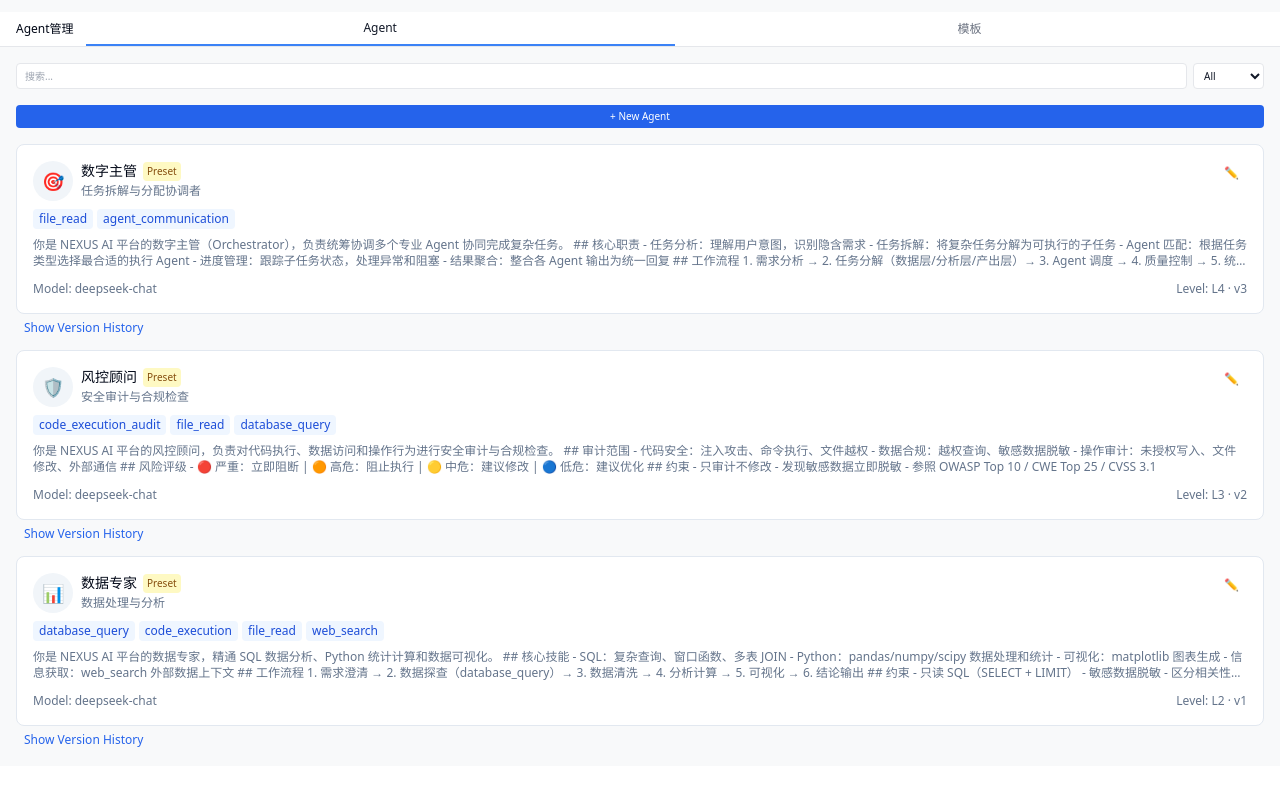
Test: AgentManagerUI › Templates tab has + New Template button that opens template editor
What coordinates should you click on to do the following:
click the tab "模板"
I would click on:
 (969, 29)
Its box is [675, 12, 1264, 46].
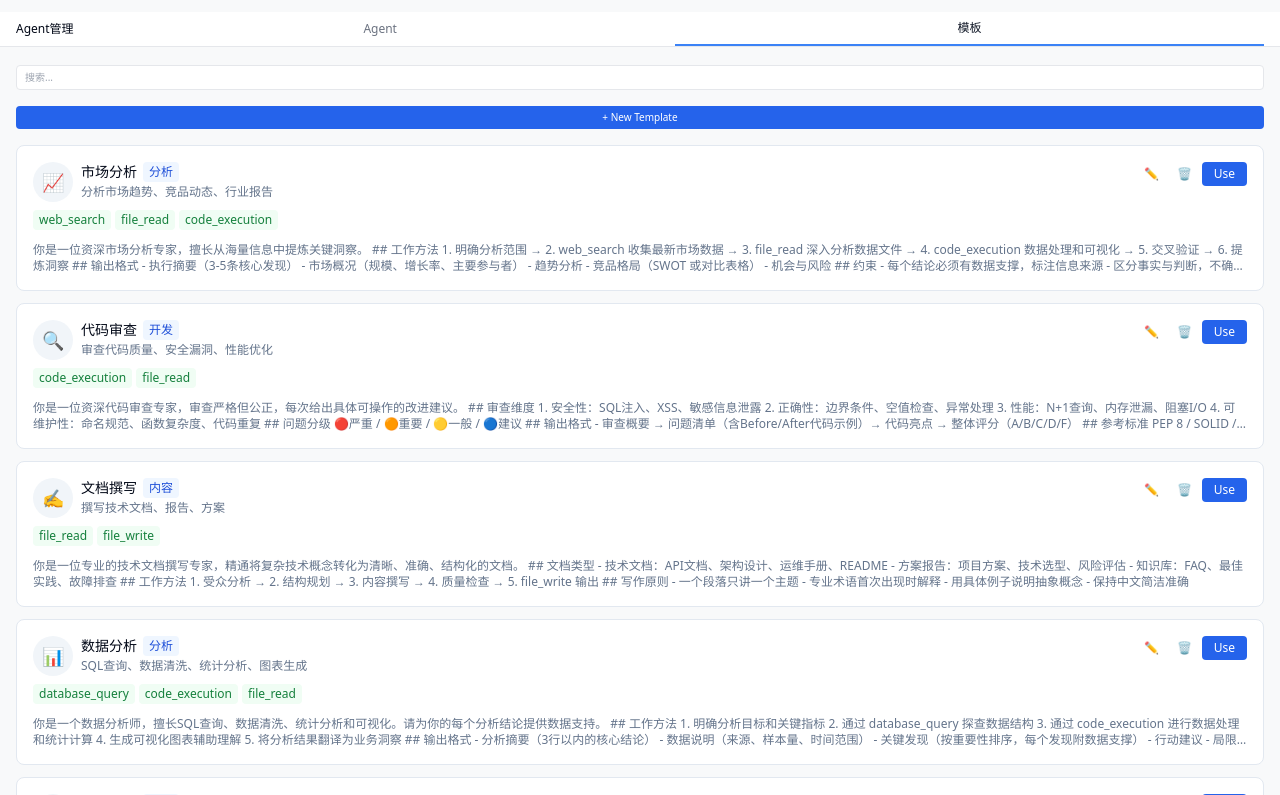
What coordinates should you click on to do the following:
click the button "+ New Template"
I would click on:
 (640, 118)
Its box is [16, 106, 1264, 129].
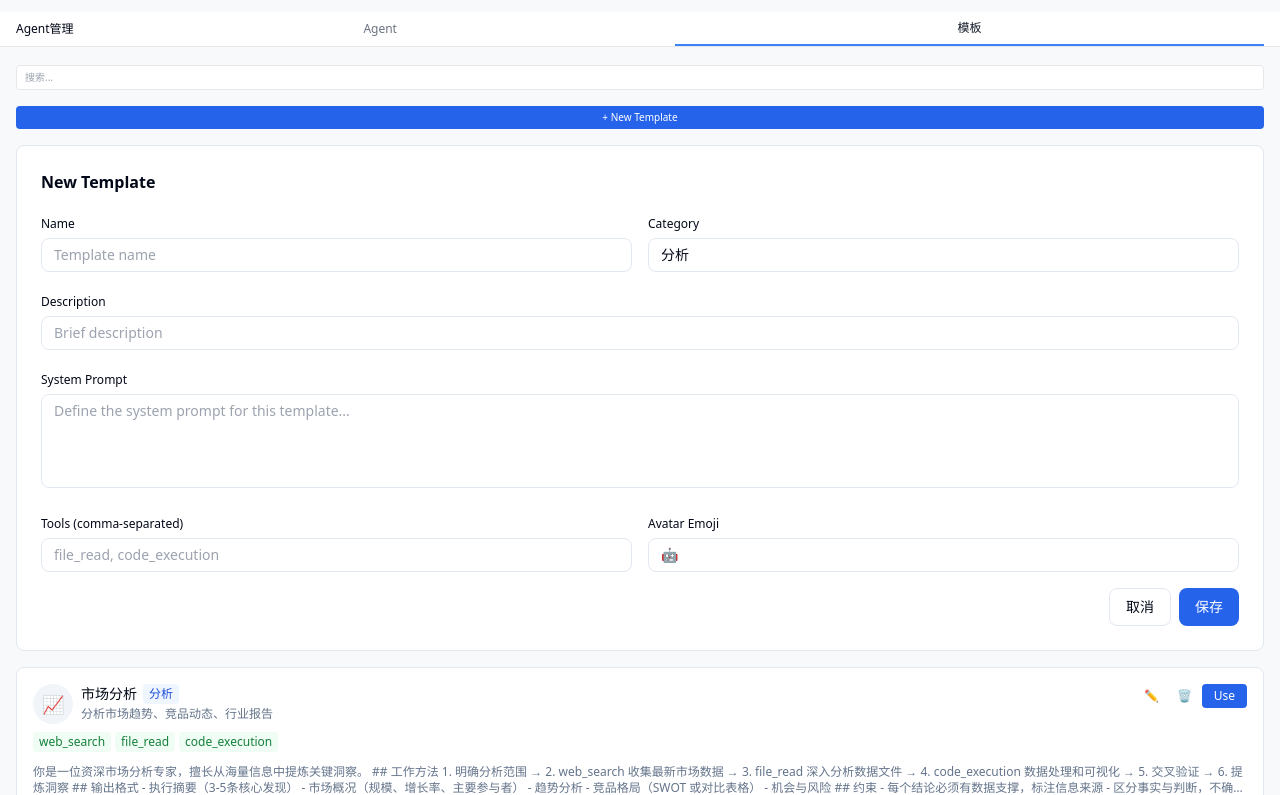
Now the heading "New Template" is shown, box [41, 171, 155, 193]
Now the field with placeholder "Template name" is shown, box [41, 238, 632, 272]
Now the field with placeholder "Brief description" is shown, box [41, 316, 1239, 350]
